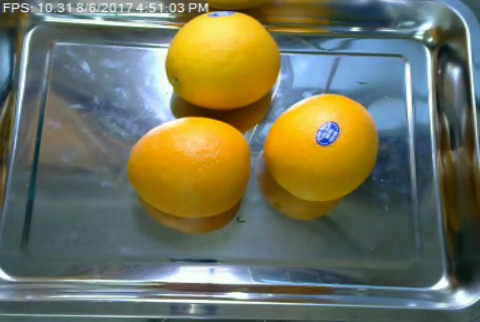Orange: (262, 92, 379, 202), (127, 116, 250, 220), (166, 11, 282, 108)
